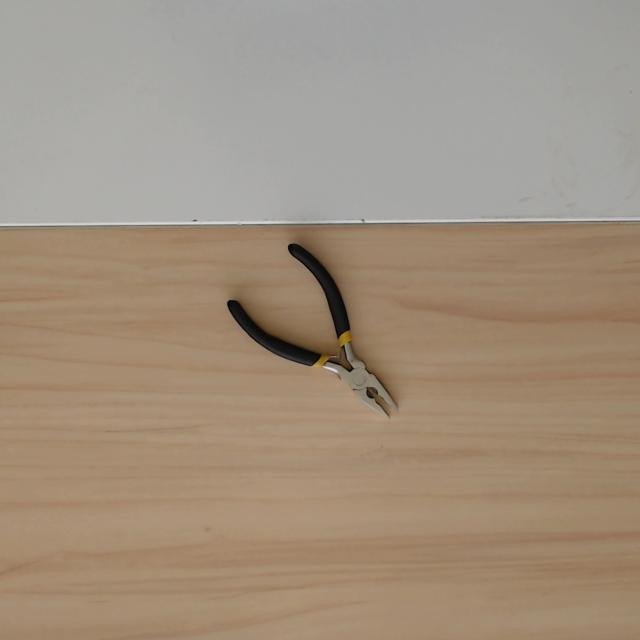Tang-Jepit-Hitam: (221, 237, 429, 452)
